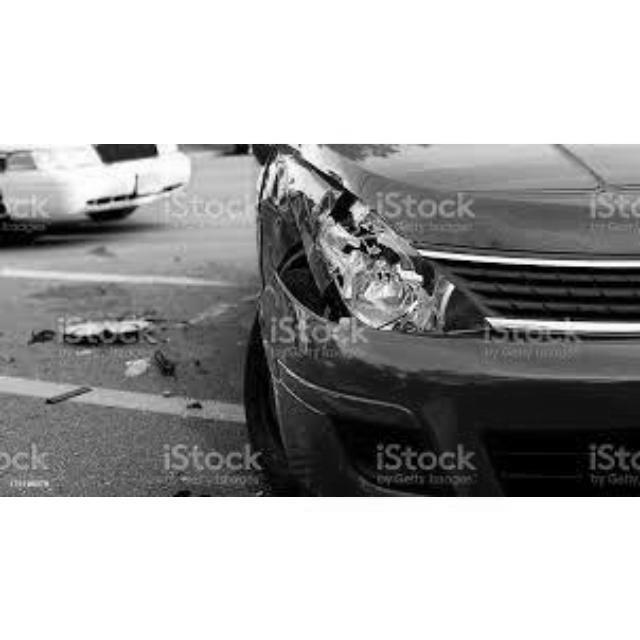Headlight-damage: (261, 188, 455, 349)
